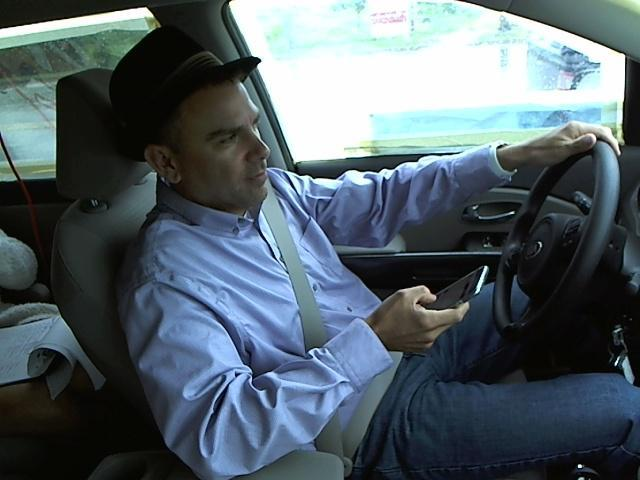PhoneUse: (412, 263, 490, 321)
